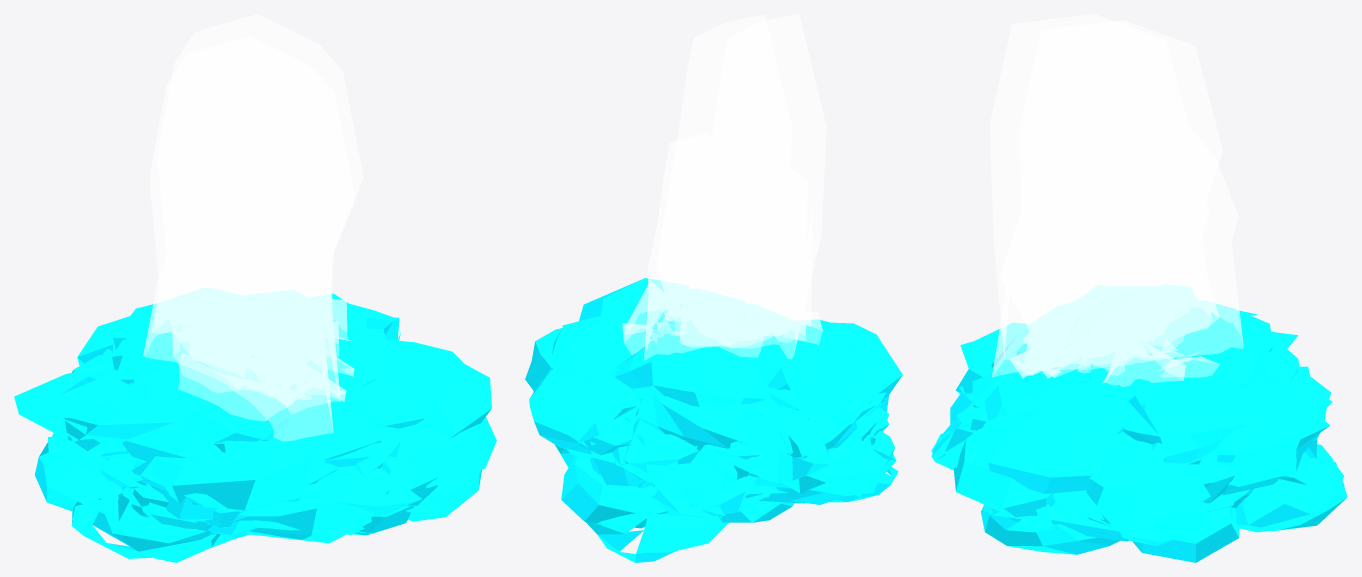
The model's file is XRYSTAL34.gltf.
The picture shows the model from 3 angles, left to right: view 1: azimuth 30°, elevation 25°; view 2: azimuth 150°, elevation 25°; view 3: azimuth 270°, elevation 25°; orthographic projection. The views are drawn at different scales.
Parts seen in each view (by area): view 1: Cube.001, Circle.001_Circle.002, Circle; view 2: Cube.001, Circle, Circle.001_Circle.002; view 3: Cube.001, Circle, Circle.001_Circle.002.
Part boxes in pixels (<box>): Cube.001: <box>14,293,496,562</box>; Circle.001_Circle.002: <box>143,36,355,441</box>; Circle: <box>152,14,363,414</box>; Cube.001: <box>525,278,902,562</box>; Circle: <box>622,14,791,360</box>; Circle.001_Circle.002: <box>657,14,826,358</box>; Cube.001: <box>931,303,1347,562</box>; Circle: <box>1019,20,1243,386</box>; Circle.001_Circle.002: <box>990,14,1211,378</box>.
Size of the model in its own units: 2.92 by 3.57 by 2.72.
